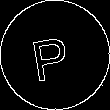P_N: (33, 28, 77, 82)
